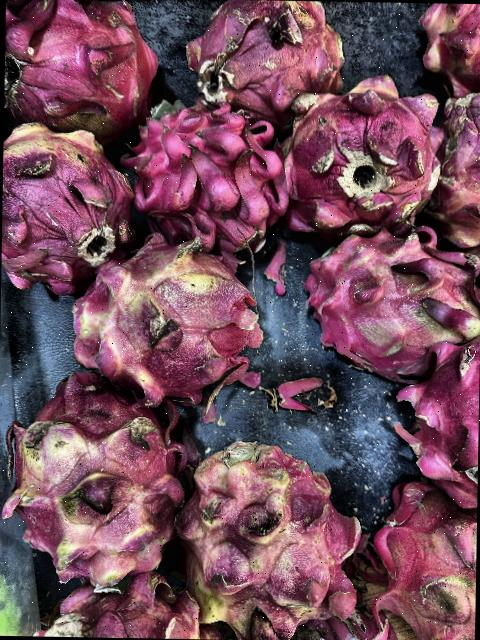buah-naga-belum-matang: (0, 366, 187, 583), (172, 430, 363, 635), (68, 245, 270, 402), (299, 233, 480, 367), (1, 120, 133, 294), (276, 90, 438, 228), (423, 93, 480, 249)
buah-naga-matang: (110, 103, 294, 256), (4, 0, 159, 137), (363, 462, 477, 640), (182, 6, 342, 103), (390, 340, 480, 497), (411, 3, 480, 85)
